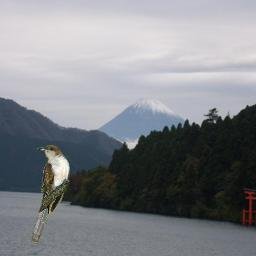Cuckoo: (31, 145, 70, 243)
